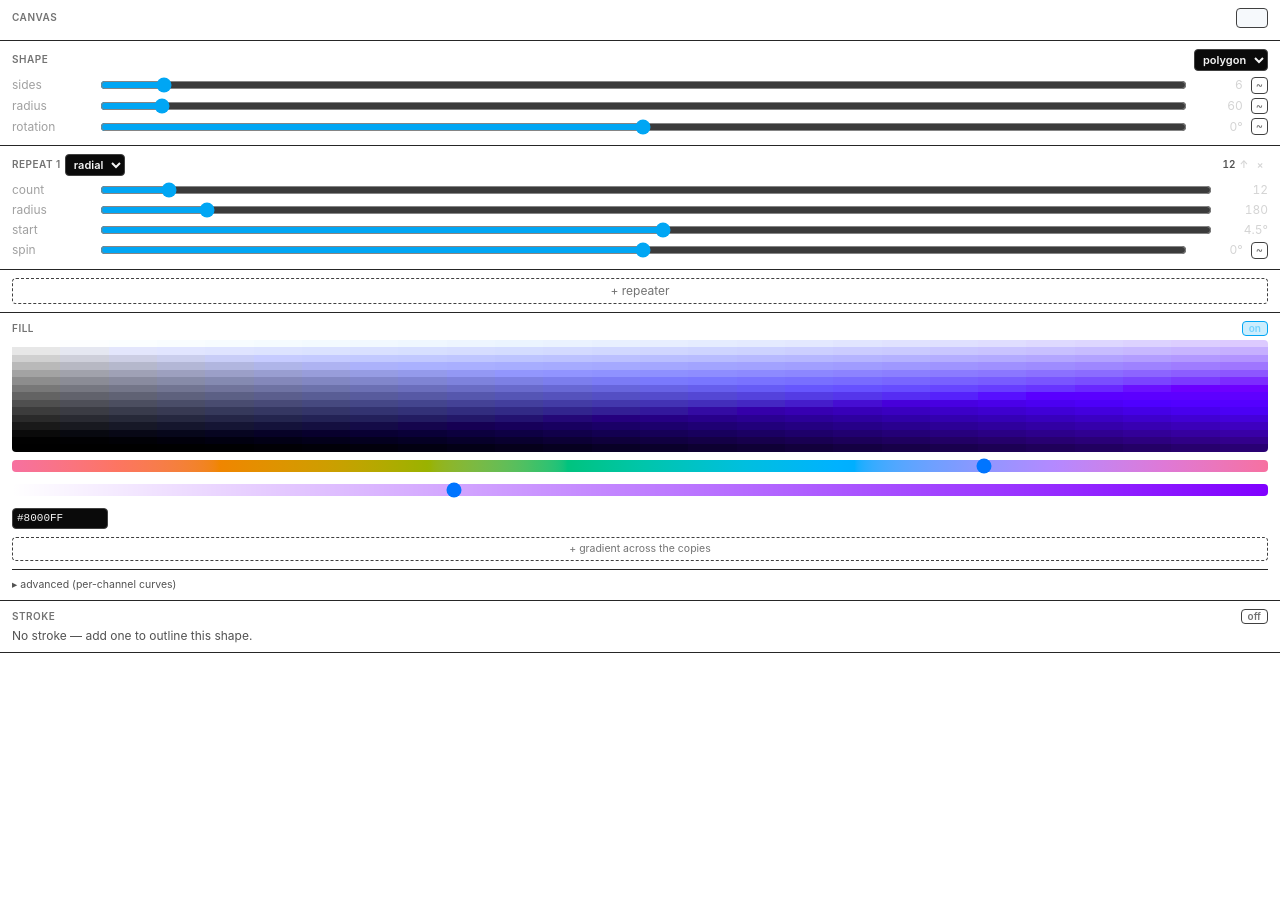
Scenario: Inspector › renders values the schema allows but the sliders used to clamp or snap
Click the button "▸ advanced (per-channel curves)": (97, 584) left=12, top=569, right=1268, bottom=592
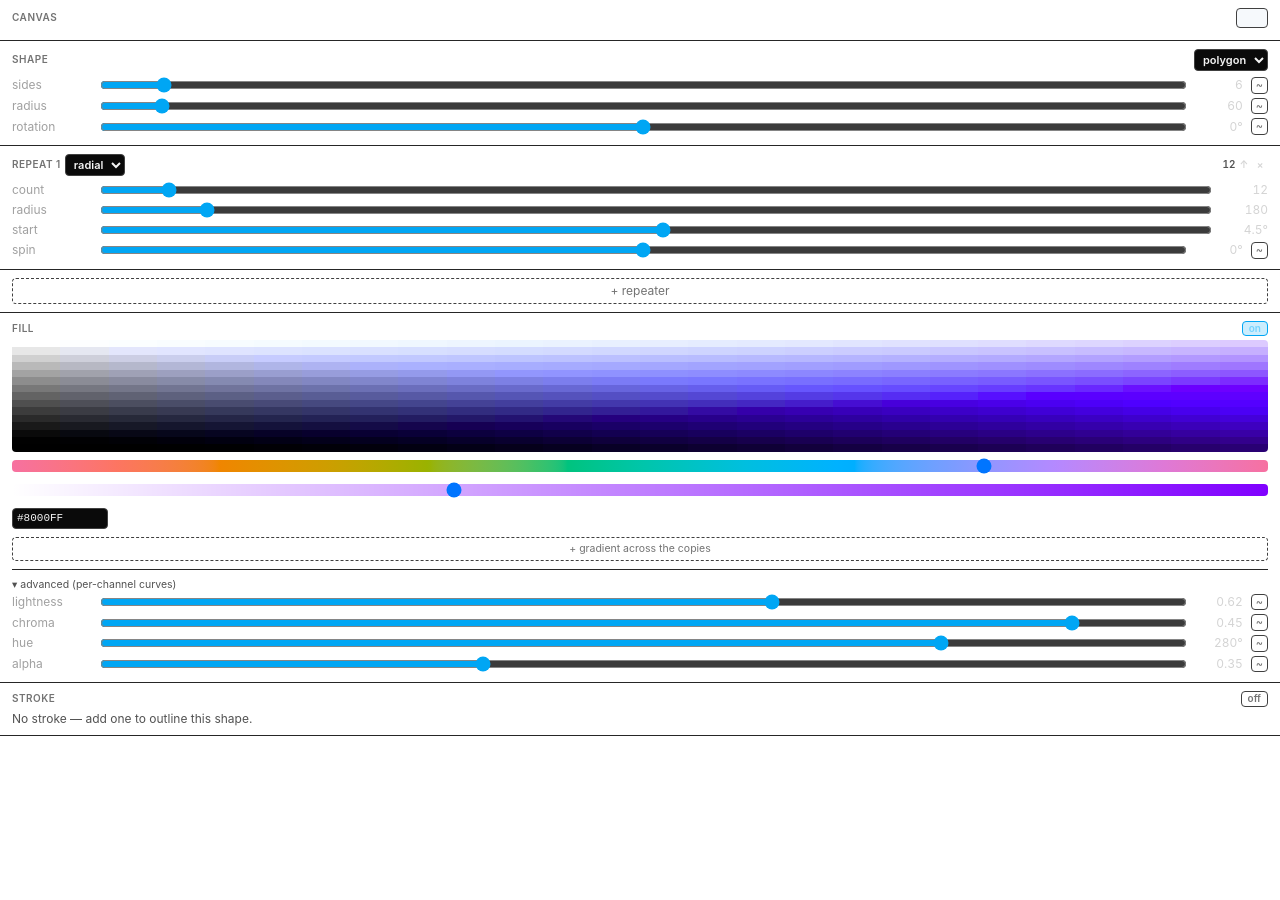
Expected: the slider named "repeat 1 start" holds "4.5", left=100, top=222, right=1212, bottom=238
Result: the slider named "fill channel chroma" holds "0.45" at left=100, top=615, right=1187, bottom=631
Result: the element with test id "card-fill" shows "0.45" at left=1216, top=615, right=1243, bottom=630
